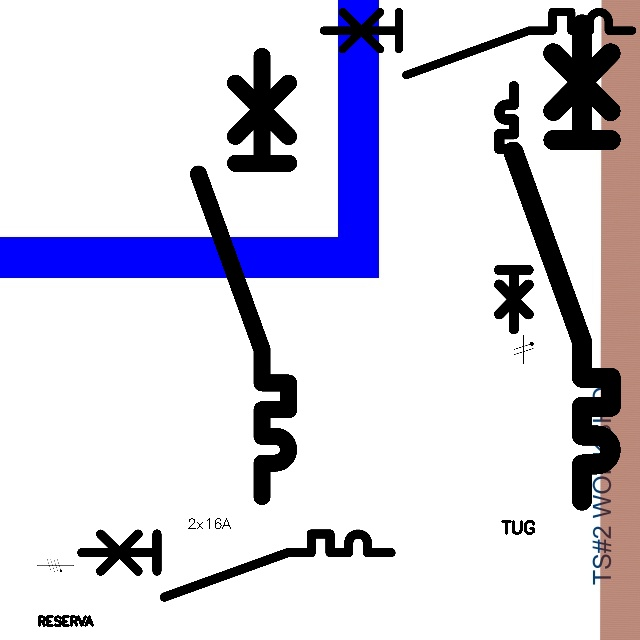interruptor_termomagnetico: (501, 12, 623, 513), (187, 45, 300, 508), (73, 526, 398, 605), (316, 4, 640, 83), (493, 80, 555, 335)
